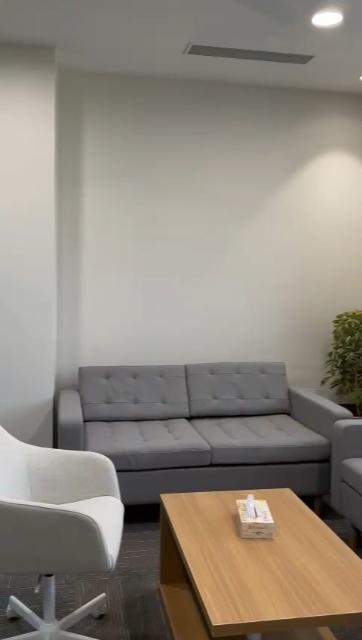object: (151, 482, 362, 640), (60, 365, 338, 483), (0, 404, 124, 640), (314, 302, 362, 406), (332, 418, 362, 520)
wall: (2, 59, 334, 357)
